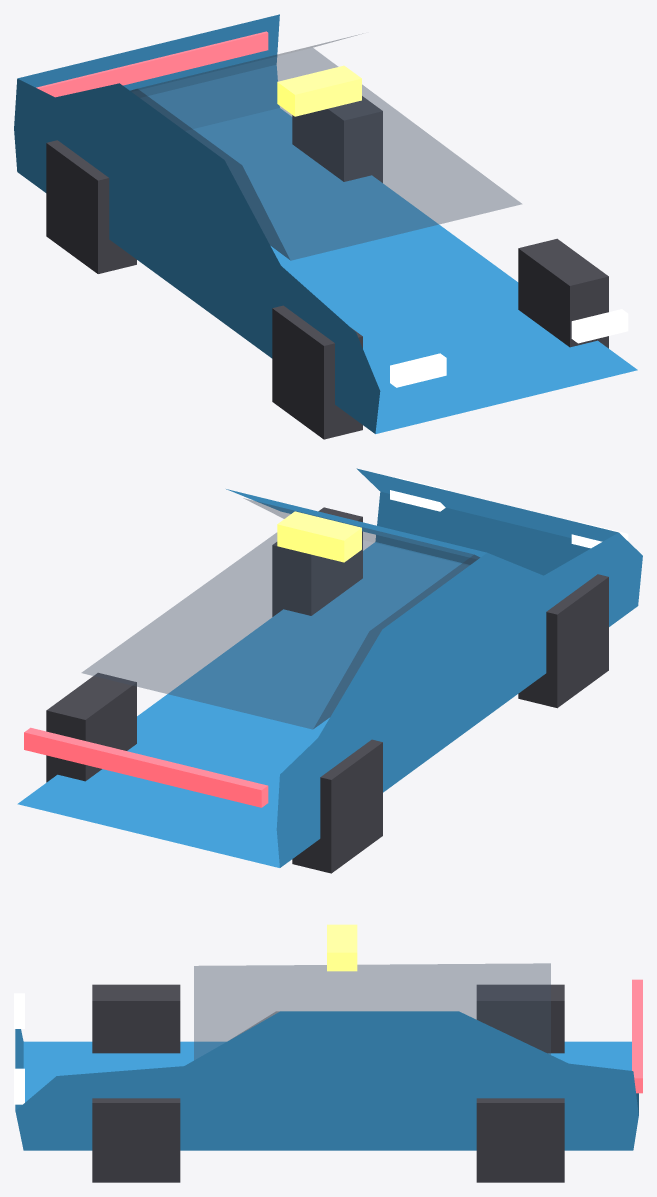
File: bluebird.glb
3 renders of one model, top to bottom at view 1: azimuth 30°, elevation 25°; view 2: azimuth 150°, elevation 25°; view 3: azimuth 270°, elevation 25°, orthographic. The views are drawn at different scales.
Visible parts, largest first — view 1: sedan_body, cabin_glass, wheel_2, wheel_0, wheel_1, wheel_3, taillight, taxi_lamp, headlight_R, headlight_L; view 2: sedan_body, cabin_glass, wheel_0, wheel_2, wheel_3, taillight, wheel_1, taxi_lamp, headlight_R; view 3: sedan_body, cabin_glass, wheel_1, wheel_3, wheel_0, wheel_2, taxi_lamp, taillight.
Part boxes in pixels (x1,y1,x2,y2): sedan_body: [14, 14, 637, 434]; cabin_glass: [130, 35, 521, 260]; wheel_2: [46, 140, 136, 273]; wheel_0: [272, 305, 362, 439]; wheel_1: [518, 238, 608, 348]; wheel_3: [292, 96, 382, 182]; taillight: [36, 31, 268, 97]; taxi_lamp: [277, 65, 361, 116]; headlight_R: [571, 309, 628, 343]; headlight_L: [390, 353, 446, 387]; sedan_body: [17, 468, 642, 867]; cabin_glass: [82, 498, 479, 729]; wheel_0: [518, 574, 608, 708]; wheel_2: [292, 739, 382, 873]; wheel_3: [46, 673, 136, 782]; taillight: [24, 727, 268, 807]; wheel_1: [272, 507, 362, 616]; taxi_lamp: [277, 511, 361, 562]; headlight_R: [390, 477, 446, 511]; sedan_body: [15, 1011, 638, 1150]; cabin_glass: [194, 963, 550, 1059]; wheel_1: [92, 1098, 180, 1182]; wheel_3: [476, 1098, 564, 1182]; wheel_0: [92, 984, 180, 1053]; wheel_2: [476, 984, 564, 1053]; taxi_lamp: [327, 924, 357, 971]; taillight: [632, 979, 642, 1093].
Size of the model in its own units: 2.04 by 1.48 by 4.58.
